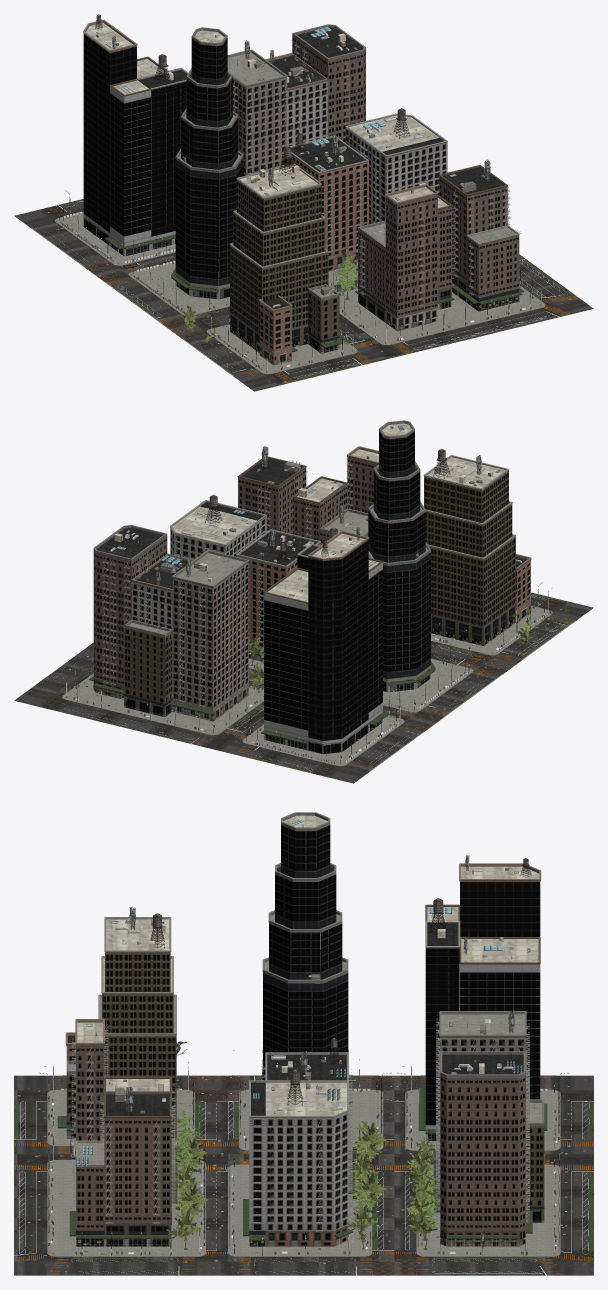
The model's file is city.glb.
3 views of the same model, one above another, from view 1: azimuth 30°, elevation 25°; view 2: azimuth 150°, elevation 25°; view 3: azimuth 270°, elevation 25° (orthographic). The views are drawn at different scales.
Parts seen in each view (by area): view 1: CityGen Buildings, CityGen Buildings.001, Plane.018; view 2: CityGen Buildings, CityGen Buildings.001, Plane.018; view 3: CityGen Buildings, Plane.018, CityGen Buildings.001.
Boxes of the visible parts, left/top/right/bottom form: CityGen Buildings: left=227, top=24, right=523, bottom=365; CityGen Buildings.001: left=83, top=14, right=243, bottom=300; Plane.018: left=14, top=190, right=593, bottom=391; CityGen Buildings: left=89, top=446, right=531, bottom=723; CityGen Buildings.001: left=261, top=420, right=435, bottom=754; Plane.018: left=14, top=582, right=593, bottom=783; CityGen Buildings: left=57, top=907, right=544, bottom=1251; Plane.018: left=14, top=1041, right=593, bottom=1275; CityGen Buildings.001: left=262, top=812, right=547, bottom=1143.
Bounding box in the file's own units: 160 × 112 × 196.
Materials: 42 (34 with a texture image).
